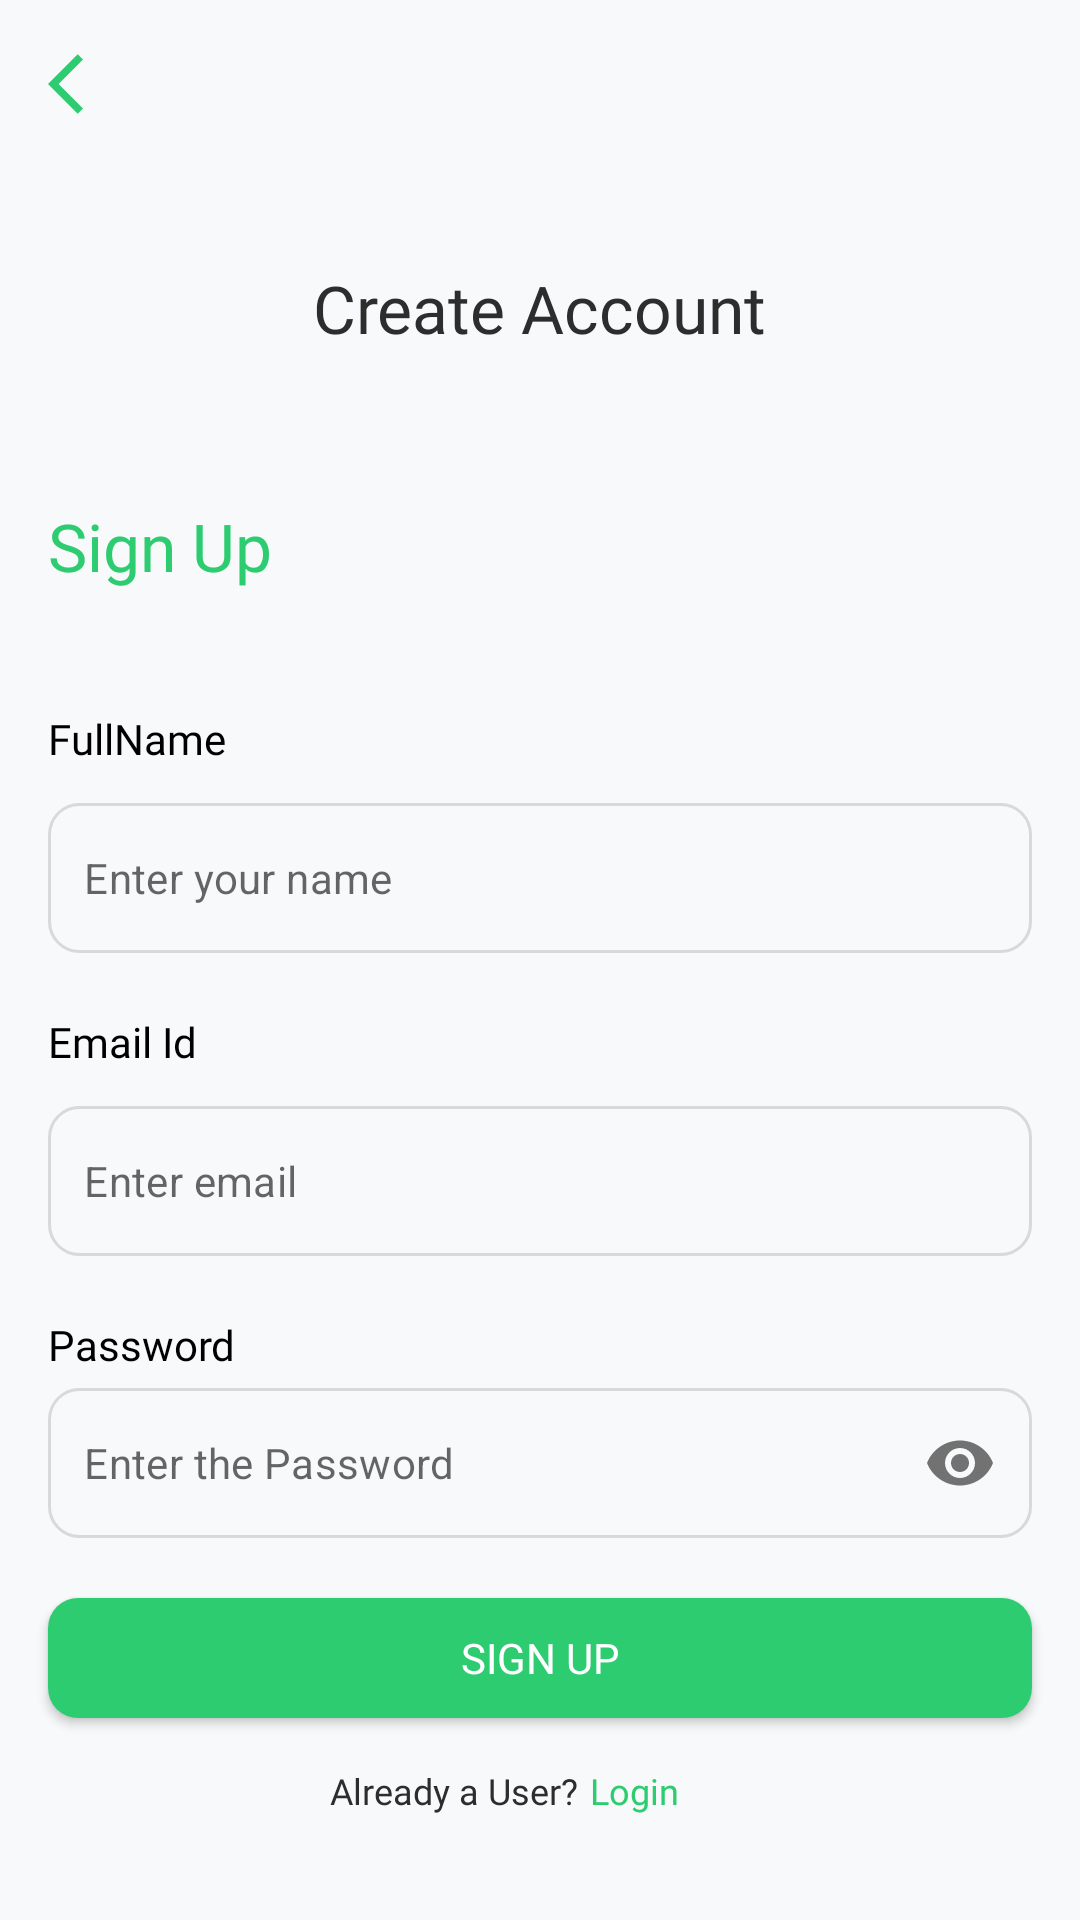

Where to tap for icons on this 1080×1920 app screen, as [x,y]:
back arrow: [65,84]
